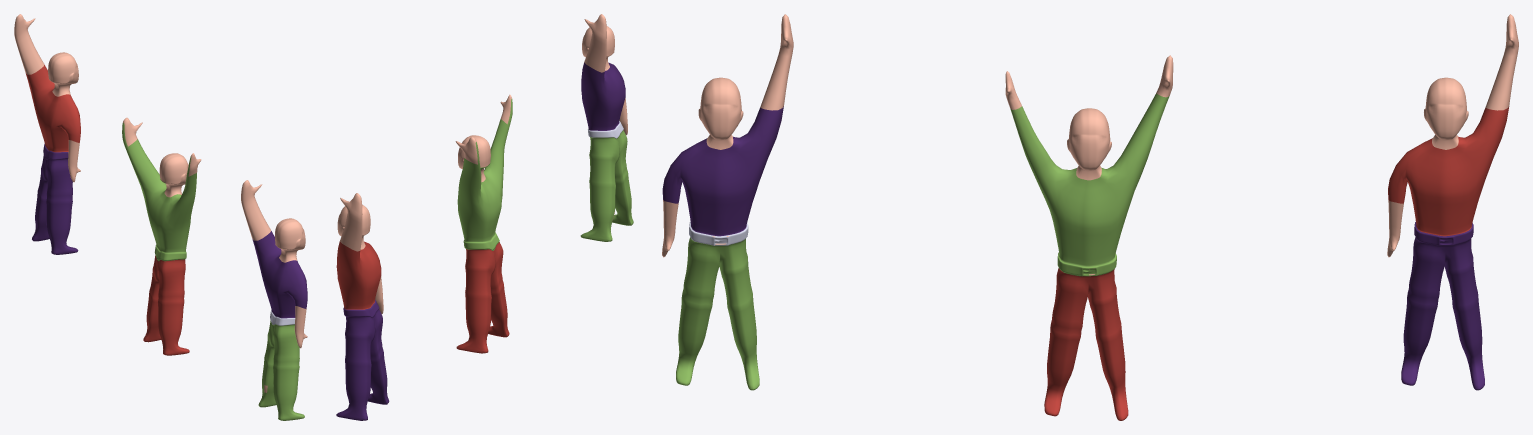
The model's file is low poly characters.fbx.
The picture shows the model from 3 angles, left to right: view 1: azimuth 30°, elevation 25°; view 2: azimuth 150°, elevation 25°; view 3: azimuth 270°, elevation 25°; orthographic projection. The views are drawn at different scales.
Visible parts, largest first — view 1: Character Pos2, Character Pos3, Character Pos1; view 2: Character Pos2, Character Pos3, Character Pos1; view 3: Character Pos2, Character Pos3, Character Pos1.
Part boxes in pixels (x1,y1,x2,y2): Character Pos2: (122, 117, 201, 355); Character Pos3: (14, 14, 80, 254); Character Pos1: (241, 180, 307, 420); Character Pos2: (455, 94, 512, 353); Character Pos3: (336, 193, 389, 420); Character Pos1: (580, 14, 633, 241); Character Pos2: (1005, 55, 1173, 420); Character Pos3: (1387, 14, 1518, 390); Character Pos1: (662, 14, 793, 390).
Size of the model in its own units: 231 by 1277 by 2581.
